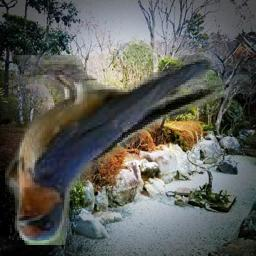Swallow: (6, 55, 253, 245)
